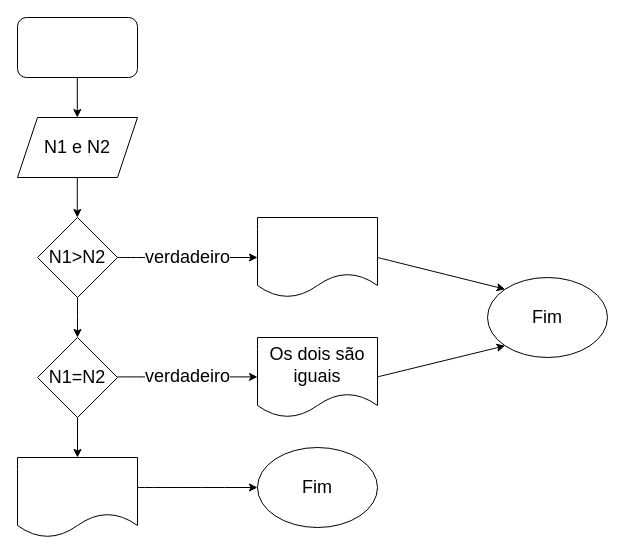
Some shapes in this 625 by 555 pixel diagram are drawn without their labels. Here are the shapes that lost their labels. From the top down, the centre of each, then its label:
(x=77, y=47): inicio
(x=317, y=257): N1 é menor
(x=77, y=497): N1 é maior que N2
